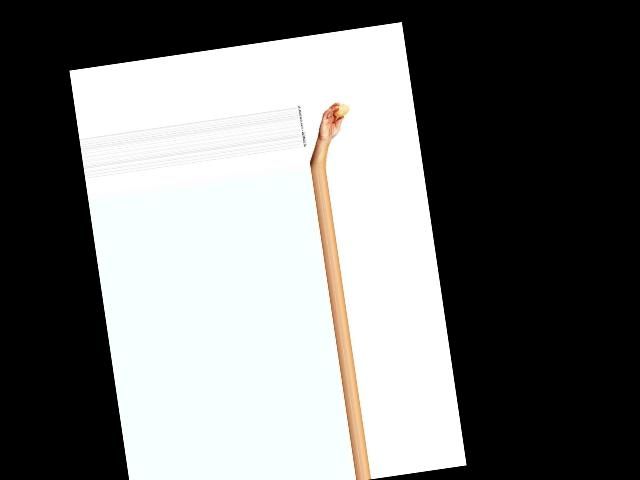egg: (331, 103, 350, 118)
